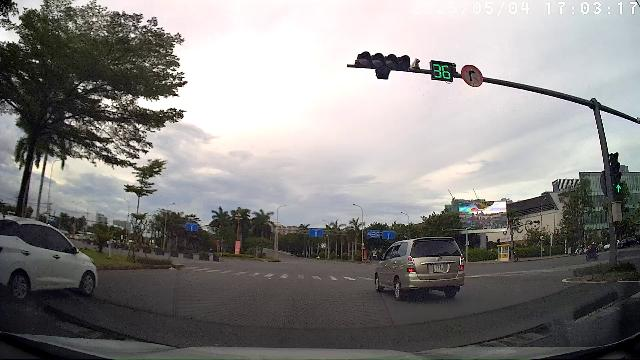123b-cam-re-phai: (461, 65, 483, 87)
